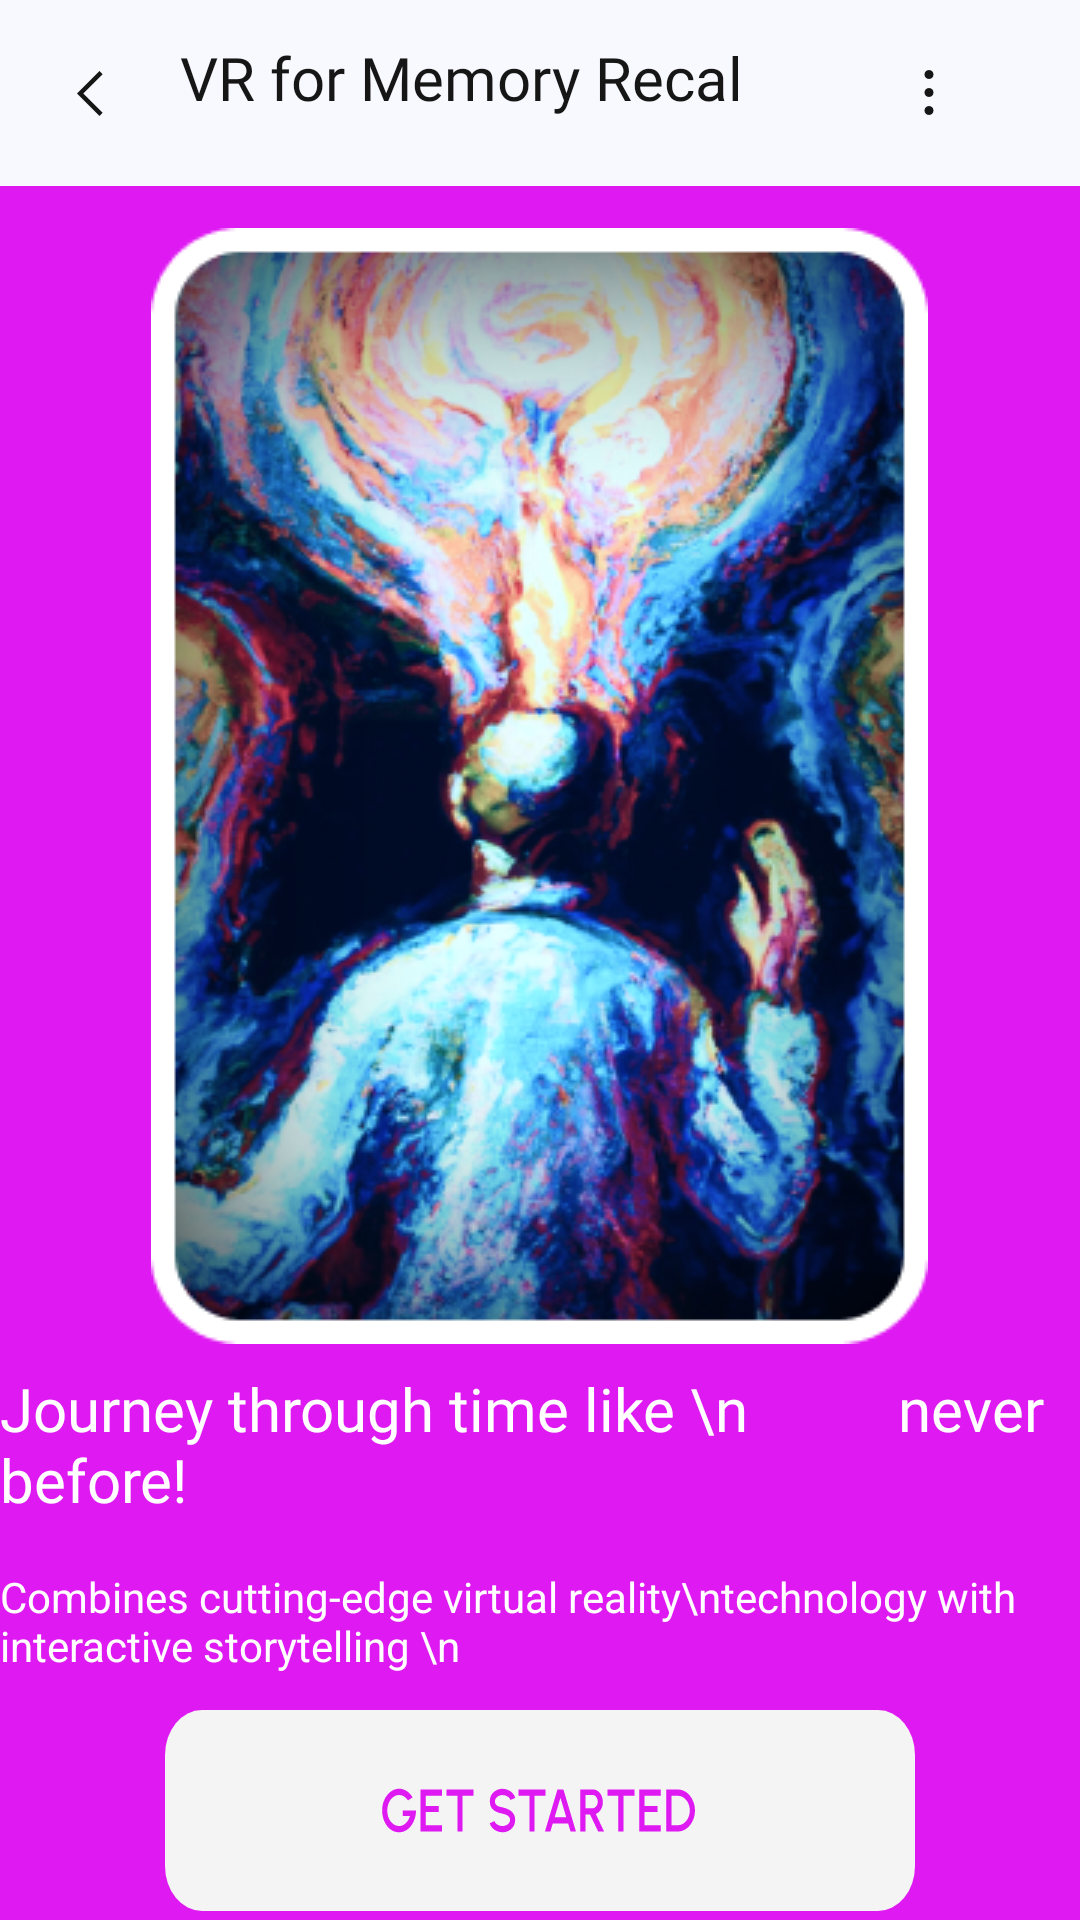

Screen size 1080w x 1920h. Icon name, then its box in pixels as (x1, y1, x2, y2):
arrow: (77, 71, 103, 116)
